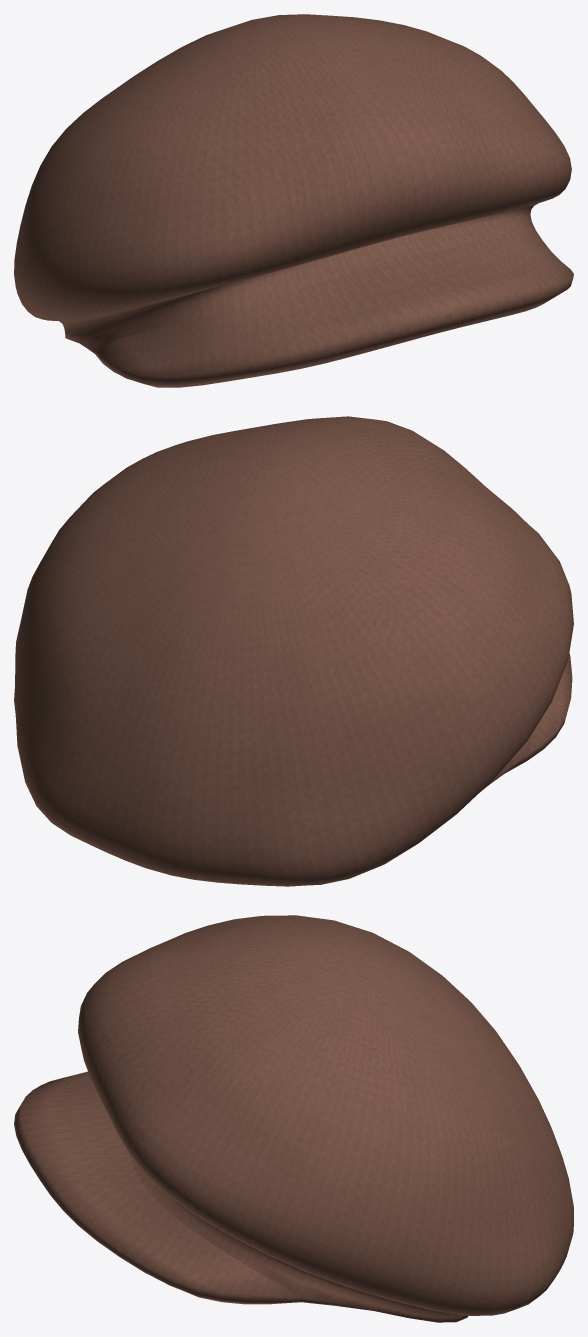
The model's file is Hat001_Painter.fbx.
3 views of the same model, one above another, from view 1: azimuth 30°, elevation 25°; view 2: azimuth 150°, elevation 25°; view 3: azimuth 270°, elevation 25° (orthographic). The views are drawn at different scales.
Visible parts, largest first — view 1: Hat; view 2: Hat; view 3: Hat.
Part boxes in pixels (bbox=[...]): Hat: bbox=[14, 14, 573, 387]; Hat: bbox=[14, 416, 573, 886]; Hat: bbox=[14, 915, 573, 1322].
Size of the model in its own units: 150 by 99.15 by 153.
